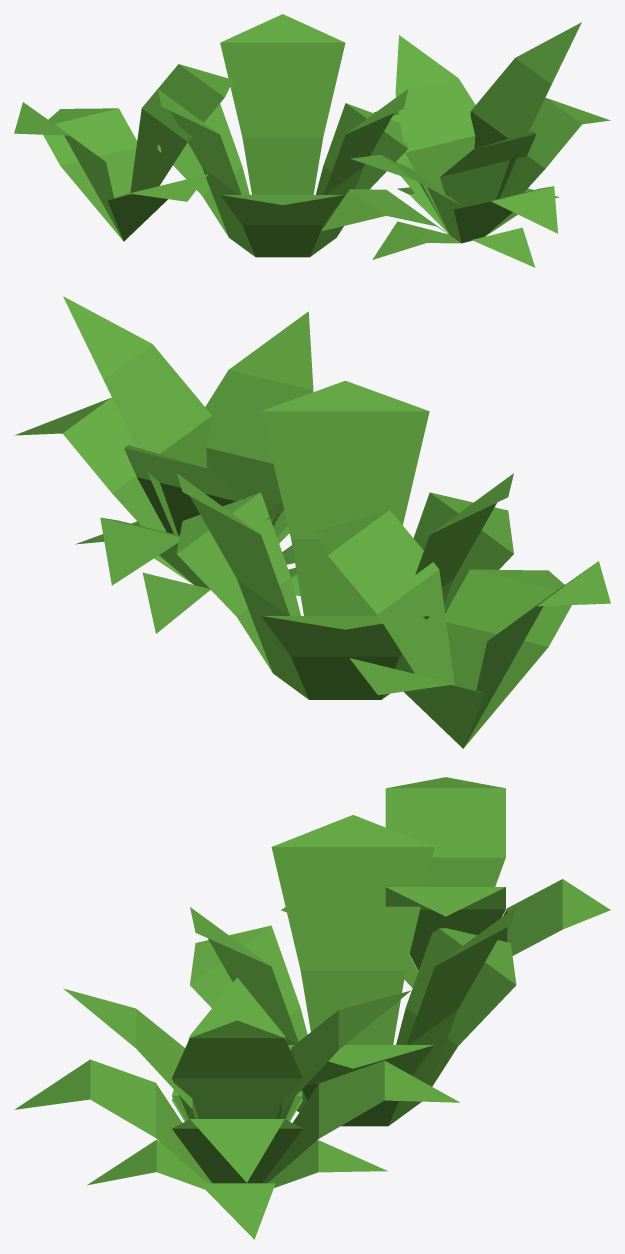
The model's file is sn_bush.glb.
3 renders of one model, top to bottom at view 1: azimuth 30°, elevation 25°; view 2: azimuth 150°, elevation 25°; view 3: azimuth 270°, elevation 25°, orthographic. The views are drawn at different scales.
Visible parts, largest first — view 1: sn_bush; view 2: sn_bush; view 3: sn_bush.
Part boxes in pixels (box(x1,y1,x2,y2)): sn_bush: box(14, 14, 610, 267); sn_bush: box(14, 296, 610, 748); sn_bush: box(14, 777, 610, 1239).
Bounding box in the file's own units: 3.38 × 1.15 × 2.58.
